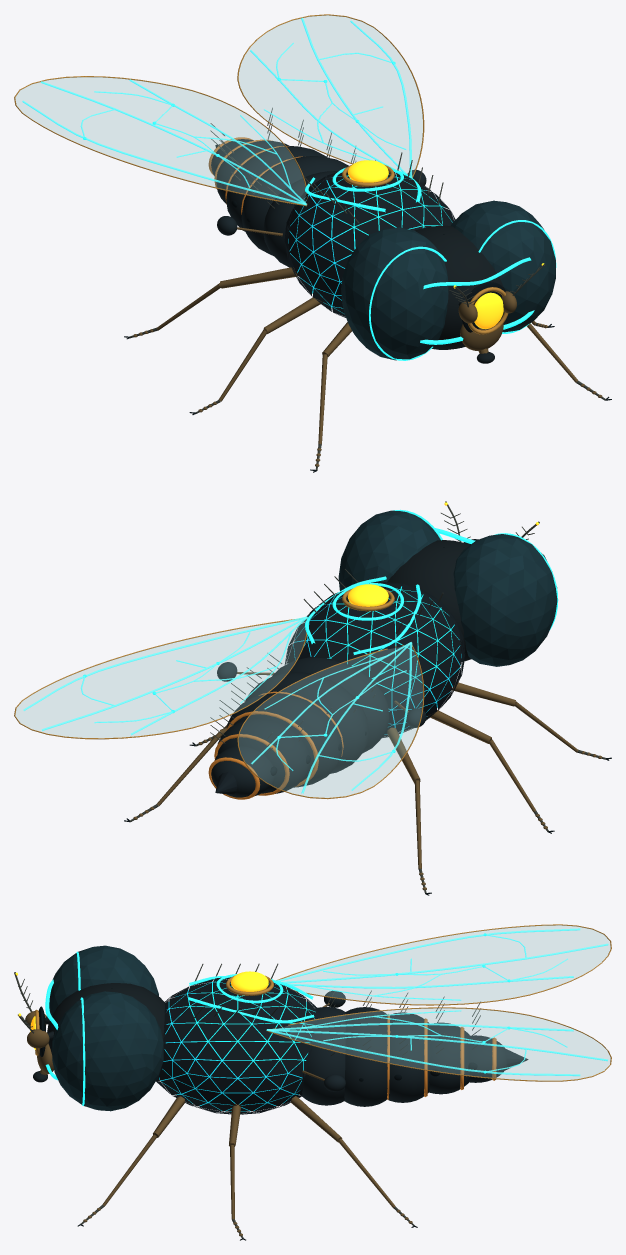
The model's file is mirror-gap-v4.0.0.glb.
3 renders of one model, top to bottom at view 1: azimuth 30°, elevation 25°; view 2: azimuth 150°, elevation 25°; view 3: azimuth 270°, elevation 25°, orthographic. The views are drawn at different scales.
Parts seen in each view (by area): view 1: Thin_wing_membrane (×2), Separate_head_Left_compound_eye_batch, Faceted_obsidian_thorax, Horizontal_segmented_abdomen_Abdominal_segment_1_batch, Head_capsule, Left_single_membrane_wing_Cyan_neural_wing_vein_1_batch, Right_single_membrane_wing_Cyan_neural_wing_vein_1_batch, Thorax_inner_cyan_fissures, Costal_wing_gold_edge (×2), Separate_head_Cyan_compound_eye_rim_batch, Facial_amber_core, Thorax_pitch_and_bank_Dorsal_core_cyan_fissure_batch (+4 smaller); view 2: Thin_wing_membrane (×2), Separate_head_Left_compound_eye_batch, Horizontal_segmented_abdomen_Abdominal_segment_1_batch, Faceted_obsidian_thorax, Head_capsule, Right_single_membrane_wing_Cyan_neural_wing_vein_1_batch, Thorax_inner_cyan_fissures, Left_single_membrane_wing_Cyan_neural_wing_vein_1_batch, Costal_wing_gold_edge (×2), Horizontal_segmented_abdomen_Amber_tergite_seam_1_batch, Femur (×3), Thorax_pitch_and_bank_Dorsal_core_cyan_fissure_batch (+2 smaller); view 3: Thin_wing_membrane (×2), Faceted_obsidian_thorax, Separate_head_Left_compound_eye_batch, Horizontal_segmented_abdomen_Abdominal_segment_1_batch, Thorax_inner_cyan_fissures, Right_single_membrane_wing_Cyan_neural_wing_vein_1_batch, Left_single_membrane_wing_Cyan_neural_wing_vein_1_batch, Costal_wing_gold_edge (×2), Head_capsule, Thorax_pitch_and_bank_Dorsal_core_cyan_fissure_batch, Horizontal_segmented_abdomen_Amber_tergite_seam_1_batch, Tibia_joint_Tibia_batch (×2) (+3 smaller).
Boxes of the visible parts, box(x1,y1,x2,y2) form: Thin_wing_membrane (×2): box(15, 15, 422, 202); Separate_head_Left_compound_eye_batch: box(341, 200, 555, 360); Faceted_obsidian_thorax: box(284, 172, 455, 317); Horizontal_segmented_abdomen_Abdominal_segment_1_batch: box(211, 139, 348, 267); Head_capsule: box(414, 225, 503, 349); Left_single_membrane_wing_Cyan_neural_wing_vein_1_batch: box(22, 79, 306, 205); Right_single_membrane_wing_Cyan_neural_wing_vein_1_batch: box(250, 17, 412, 177); Thorax_inner_cyan_fissures: box(288, 174, 452, 313); Costal_wing_gold_edge (×2): box(14, 14, 424, 206); Separate_head_Cyan_compound_eye_rim_batch: box(369, 220, 556, 360); Facial_amber_core: box(474, 292, 503, 329); Thorax_pitch_and_bank_Dorsal_core_cyan_fissure_batch: box(305, 167, 421, 212); Thin_wing_membrane (×2): box(15, 620, 422, 797); Separate_head_Left_compound_eye_batch: box(338, 510, 557, 666); Horizontal_segmented_abdomen_Abdominal_segment_1_batch: box(211, 657, 389, 797); Faceted_obsidian_thorax: box(284, 581, 465, 737); Head_capsule: box(387, 540, 471, 661); Right_single_membrane_wing_Cyan_neural_wing_vein_1_batch: box(23, 616, 307, 735); Thorax_inner_cyan_fissures: box(293, 586, 461, 734); Left_single_membrane_wing_Cyan_neural_wing_vein_1_batch: box(251, 642, 412, 793); Costal_wing_gold_edge (×2): box(14, 618, 424, 799); Horizontal_segmented_abdomen_Amber_tergite_seam_1_batch: box(208, 691, 343, 799); Femur (×3): box(387, 682, 515, 783); Thorax_pitch_and_bank_Dorsal_core_cyan_fissure_batch: box(305, 576, 421, 654); Thin_wing_membrane (×2): box(276, 925, 610, 1080); Faceted_obsidian_thorax: box(156, 977, 320, 1114); Separate_head_Left_compound_eye_batch: box(49, 945, 163, 1111); Horizontal_segmented_abdomen_Abdominal_segment_1_batch: box(300, 1007, 506, 1106); Thorax_inner_cyan_fissures: box(159, 981, 315, 1111); Right_single_membrane_wing_Cyan_neural_wing_vein_1_batch: box(266, 1010, 608, 1076); Left_single_membrane_wing_Cyan_neural_wing_vein_1_batch: box(269, 928, 608, 1000); Costal_wing_gold_edge (×2): box(267, 924, 611, 1081); Head_capsule: box(47, 983, 166, 1080); Thorax_pitch_and_bank_Dorsal_core_cyan_fissure_batch: box(188, 974, 314, 1023); Horizontal_segmented_abdomen_Amber_tergite_seam_1_batch: box(387, 1014, 496, 1099); Tibia_joint_Tibia_batch (×2): box(83, 1134, 412, 1223).
Size of the model in its own units: 1.1 by 0.6012 by 1.72.
